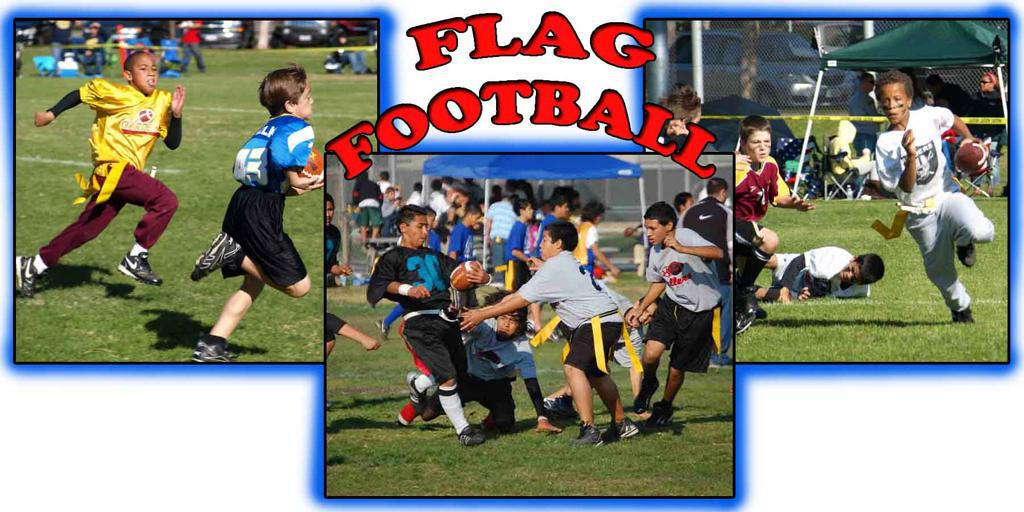face: (285, 81, 315, 119), (879, 87, 908, 126), (134, 58, 158, 93), (407, 215, 428, 249), (748, 132, 771, 163), (645, 219, 667, 246), (496, 315, 517, 341), (539, 231, 556, 260), (840, 262, 862, 284), (635, 304, 657, 326), (521, 204, 534, 220), (327, 201, 335, 226), (561, 203, 572, 221), (453, 192, 467, 206), (981, 76, 992, 92), (472, 211, 482, 227), (425, 214, 436, 228), (685, 198, 694, 214), (864, 79, 875, 92), (923, 94, 933, 108), (388, 191, 395, 200)
